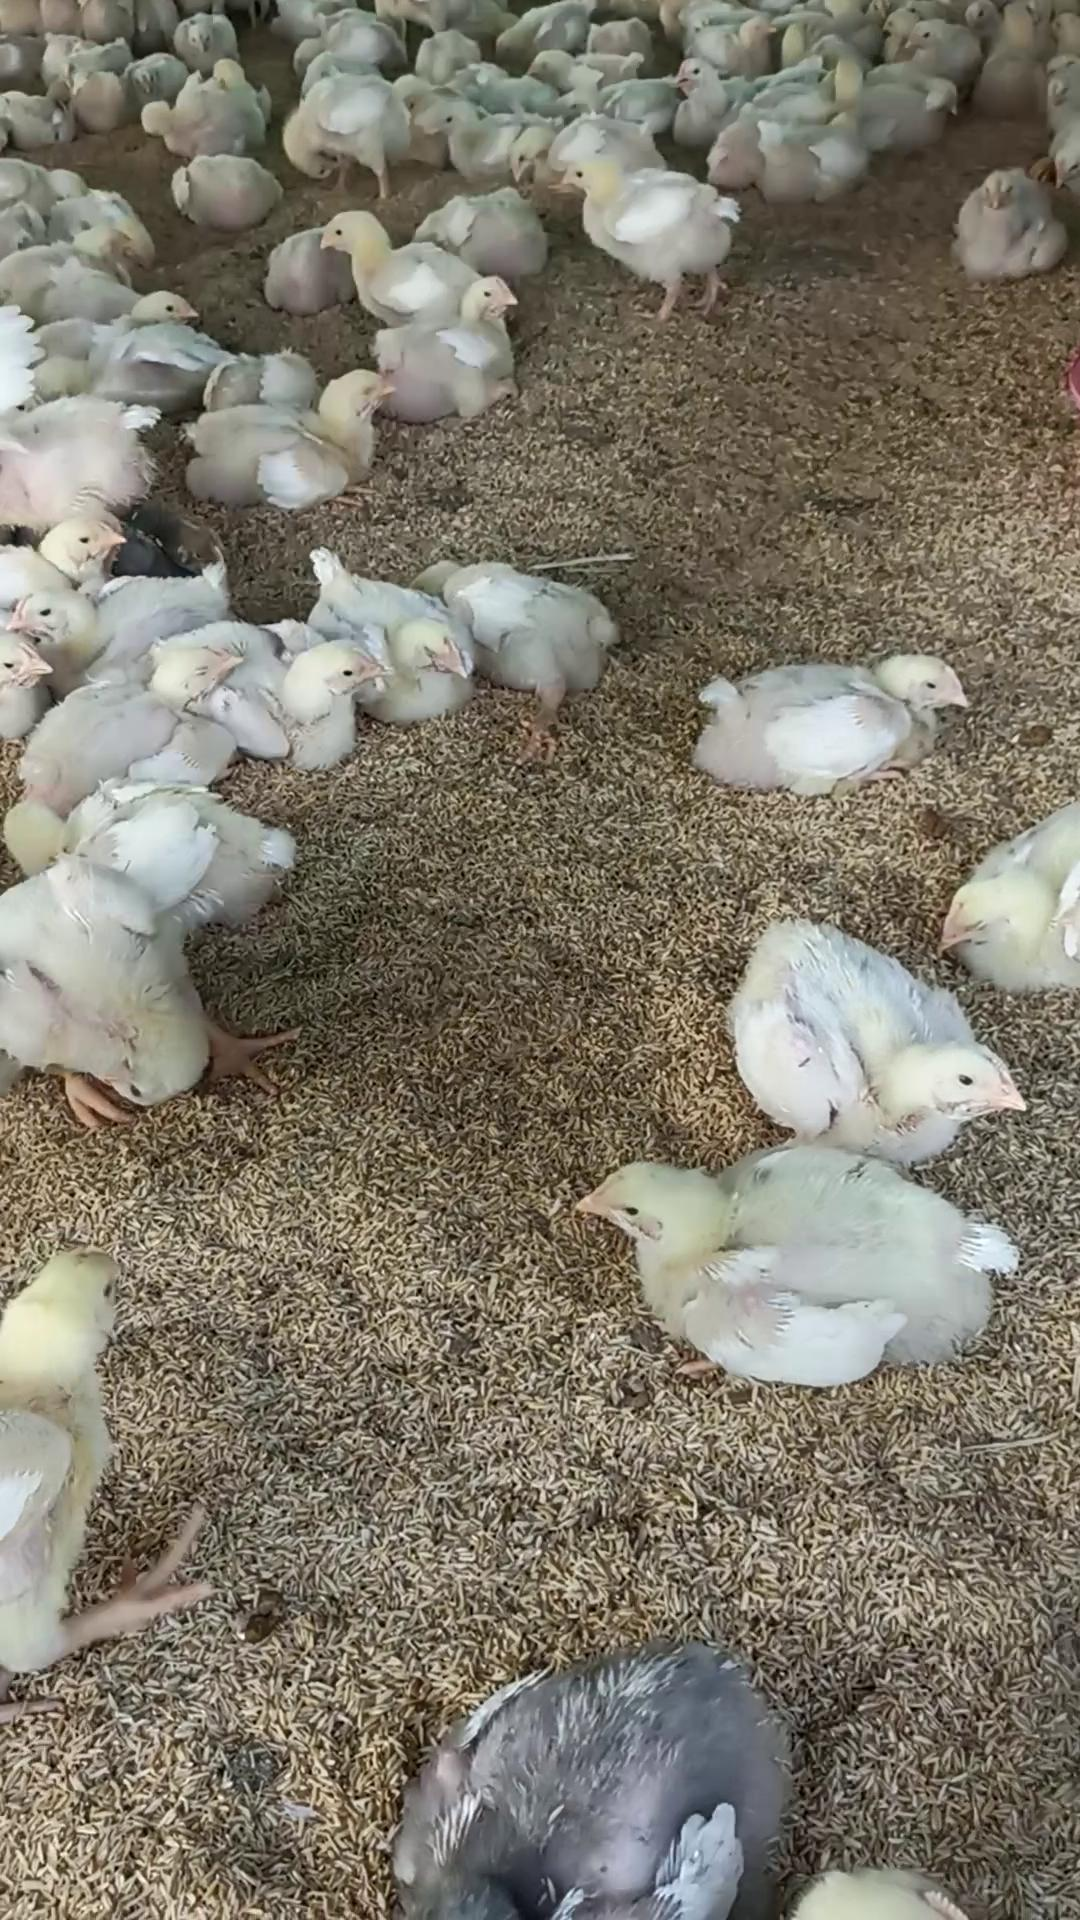Pollos: (570, 1142, 1015, 1379), (0, 803, 233, 1106), (742, 907, 1022, 1149), (0, 1237, 131, 1677), (690, 646, 972, 796), (40, 640, 243, 814), (195, 367, 393, 518), (564, 156, 738, 295), (947, 790, 1072, 973), (22, 285, 198, 407), (247, 622, 388, 770), (390, 272, 517, 429), (318, 211, 446, 314), (8, 572, 222, 632), (757, 102, 869, 214), (957, 166, 1065, 281), (290, 71, 402, 179), (386, 596, 477, 725), (174, 153, 276, 227), (674, 51, 746, 119), (913, 18, 976, 83), (173, 15, 237, 61)
